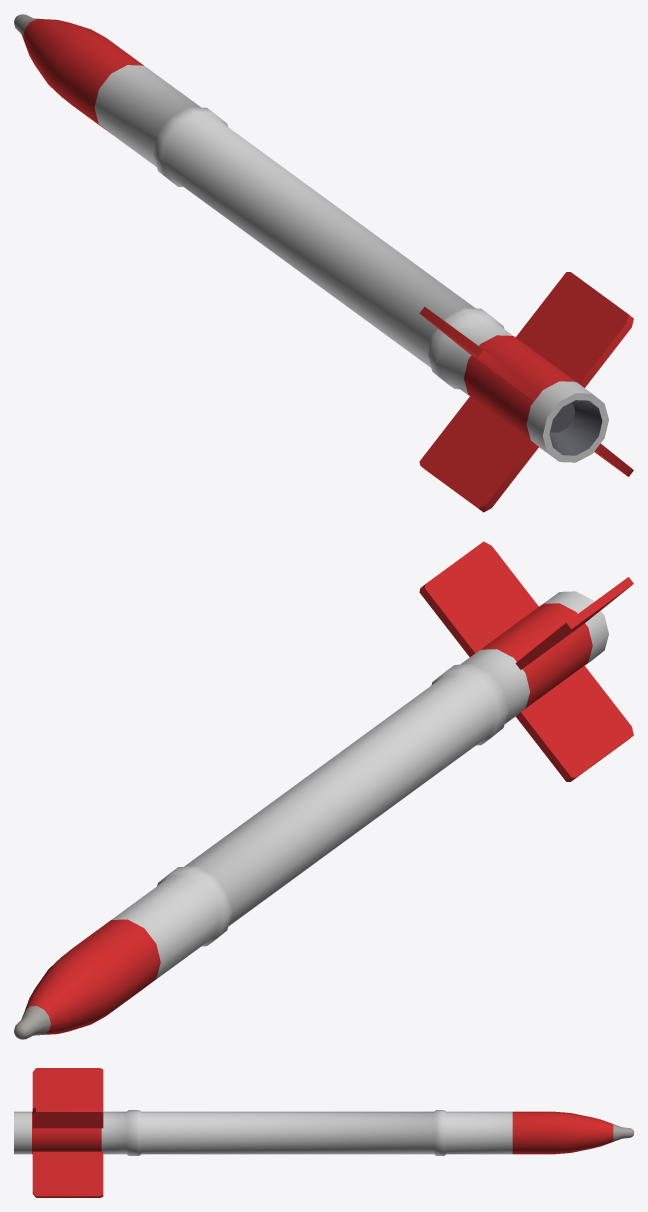
File: hvar.glb
The picture shows the model from 3 angles, top to bottom: view 1: azimuth 30°, elevation 25°; view 2: azimuth 150°, elevation 25°; view 3: azimuth 270°, elevation 25°; orthographic projection. The views are drawn at different scales.
Visible parts, largest first — view 1: hvar; view 2: hvar; view 3: hvar.
Part boxes in pixels (x1=…): hvar: x1=14, y1=14, x2=633, y2=512; hvar: x1=14, y1=541, x2=633, y2=1039; hvar: x1=14, y1=1068, x2=633, y2=1197.
Size of the model in its own units: 0.2893 by 0.2893 by 1.8.
